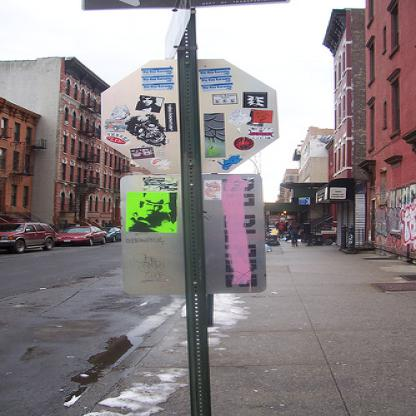car: (0, 219, 58, 252), (54, 225, 107, 246)
